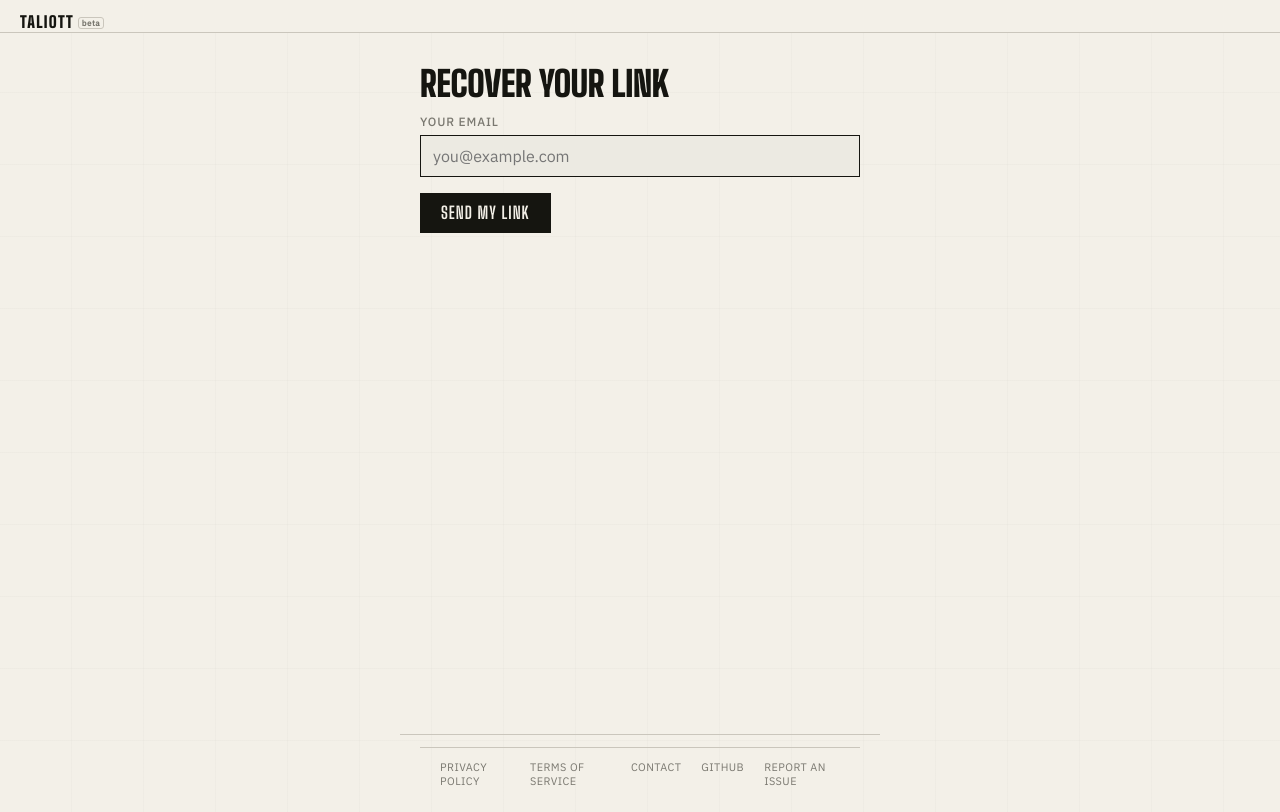
Test: ResendLinkView › shows rate-limit error message when server returns 429
The width and height of the screenshot is (1280, 812).
In the field: x=640, y=156 [420, 134, 860, 177], type "a@b.com"
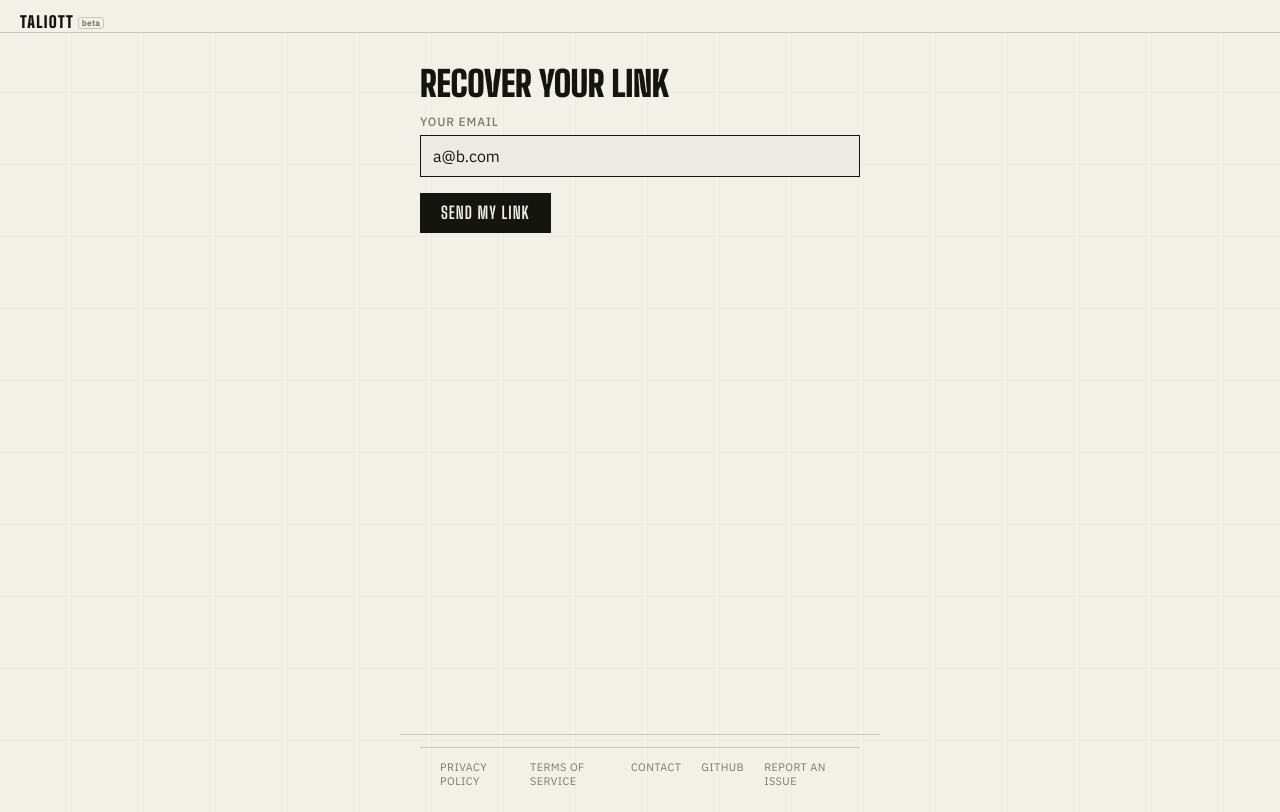
Submit the form named "resend link", box [420, 114, 860, 233]
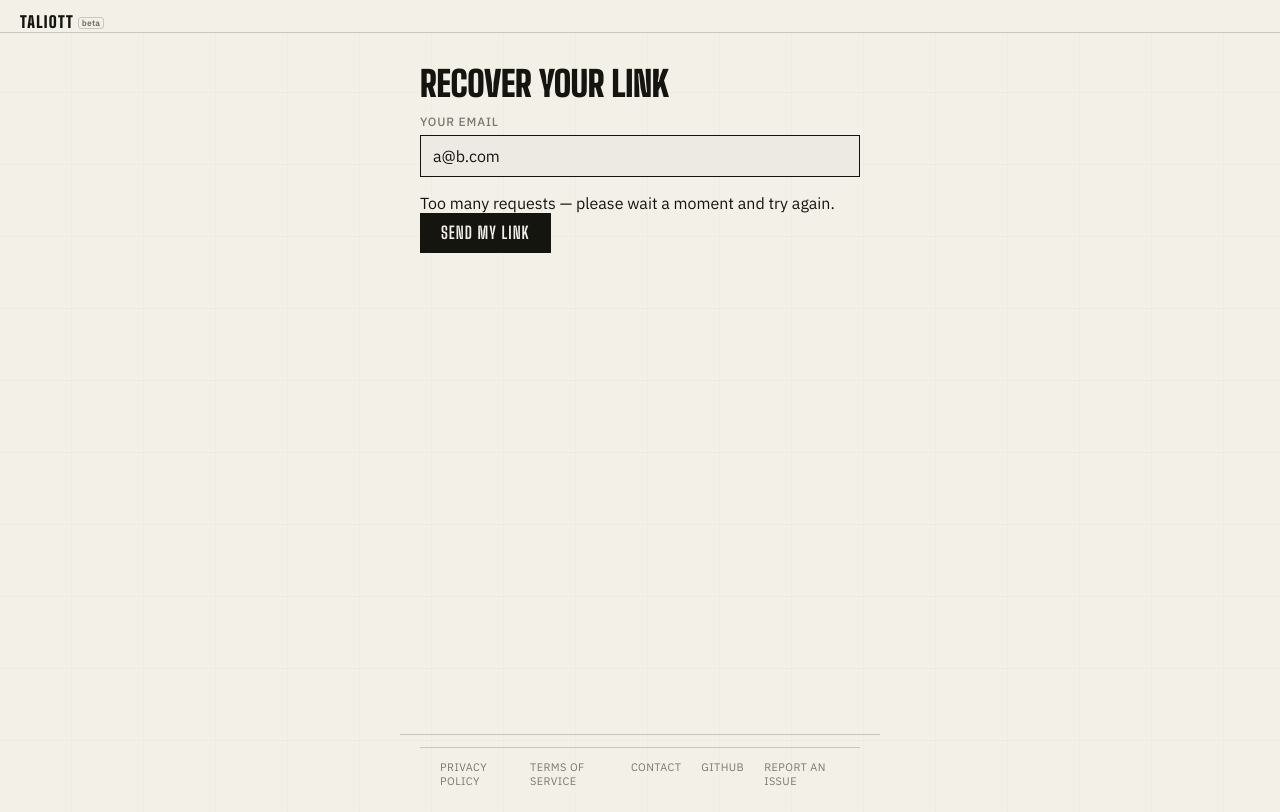
Check: the message "Too many requests — please wait a moment and try again." is shown, box [420, 193, 860, 213]
